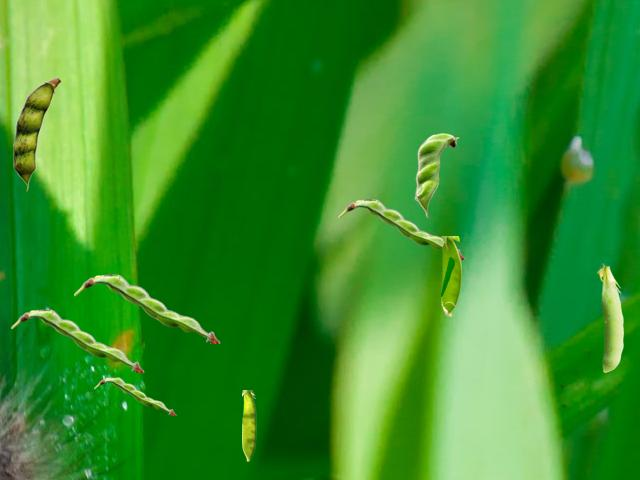pea: (74, 274, 219, 342), (11, 309, 143, 371), (338, 199, 464, 258), (13, 77, 60, 190), (414, 133, 458, 217), (94, 377, 175, 414), (597, 263, 622, 371), (441, 236, 460, 315), (242, 390, 255, 460)
